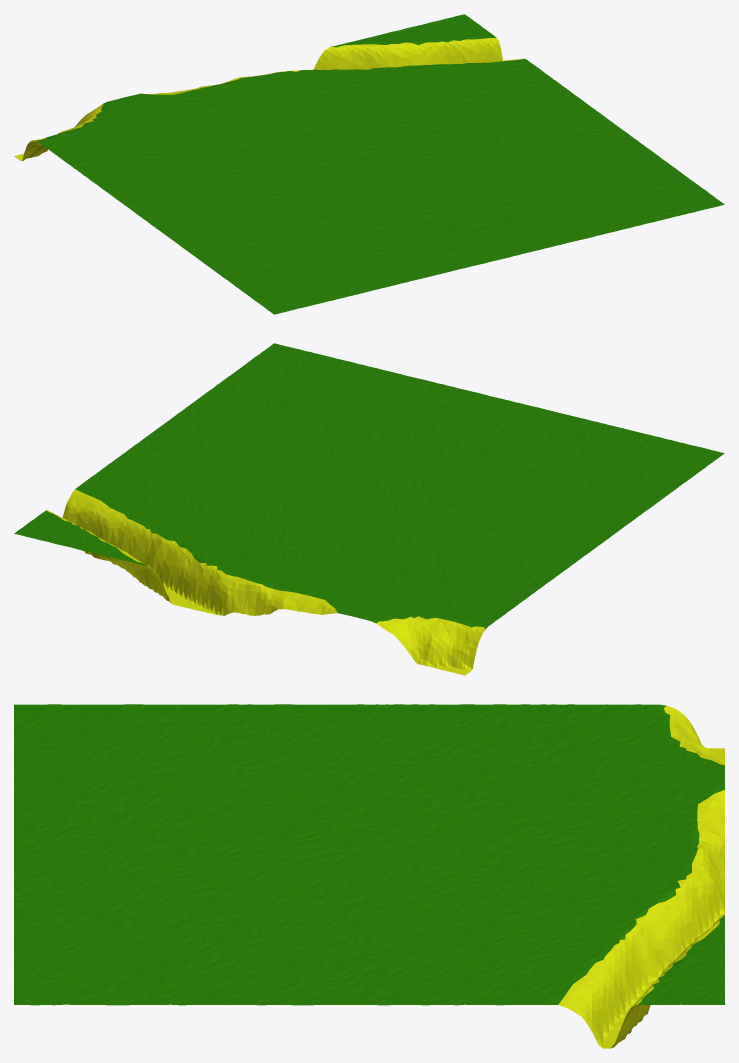
The picture shows the model from 3 angles, top to bottom: view 1: azimuth 30°, elevation 25°; view 2: azimuth 150°, elevation 25°; view 3: azimuth 270°, elevation 25°; orthographic projection. The views are drawn at different scales.
Visible parts, largest first — view 1: TerrainVeryHigh.006; view 2: TerrainVeryHigh.006; view 3: TerrainVeryHigh.006.
Boxes of the visible parts, left/top/right/bottom form: TerrainVeryHigh.006: left=14, top=14, right=724, bottom=314; TerrainVeryHigh.006: left=14, top=343, right=724, bottom=675; TerrainVeryHigh.006: left=14, top=704, right=724, bottom=1048.
Bounding box in the file's own units: 1251 × 1251 × 86.15.
